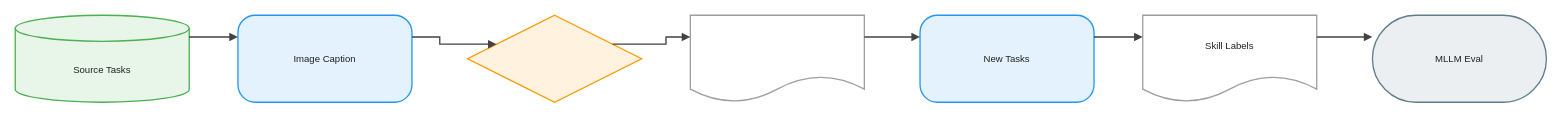
The diagram is 1563 pixels wide and 118 high, and some of its shapes have lost their labels. The shapes that lost their labels are listed below. From the top down, each one's box as (x1, y1, x2, y2) in pixels, then its label:
(467, 14, 642, 102): Text Filter
(689, 14, 865, 102): Skill Tax
